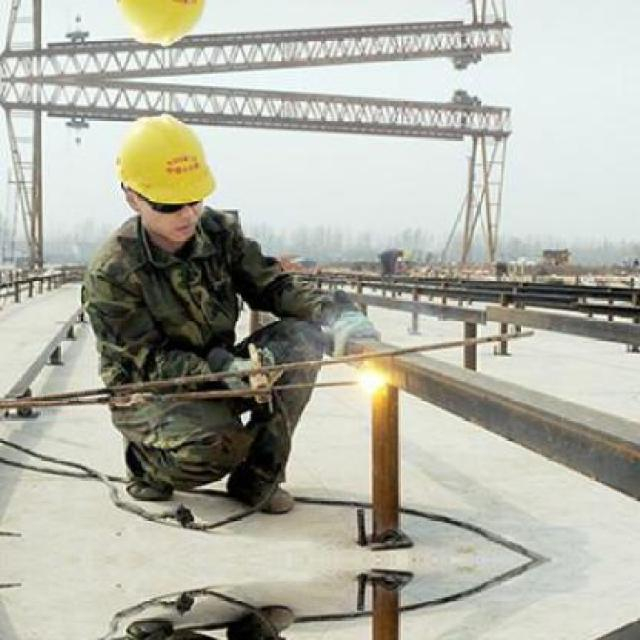helmet: (102, 104, 230, 250), (102, 0, 230, 57)
